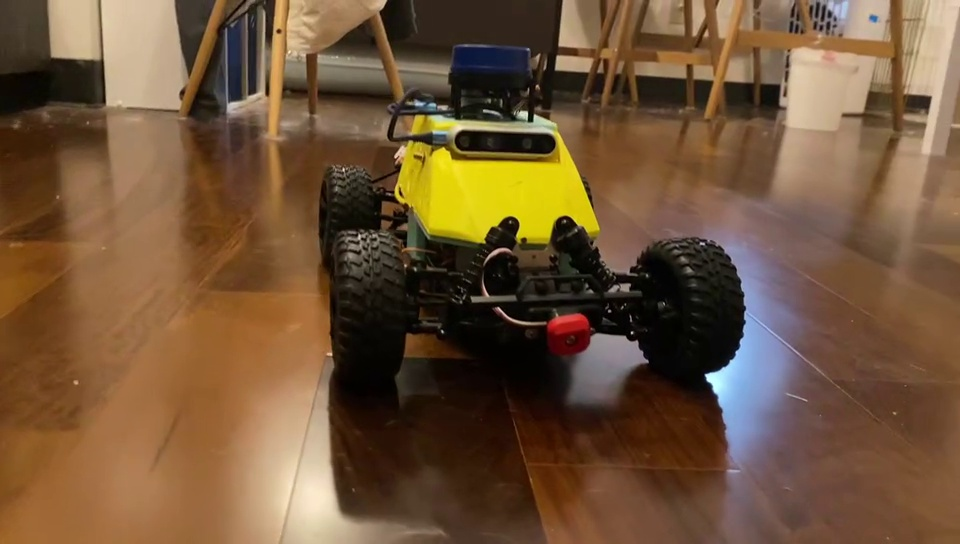mushr_car: (314, 36, 747, 386)
